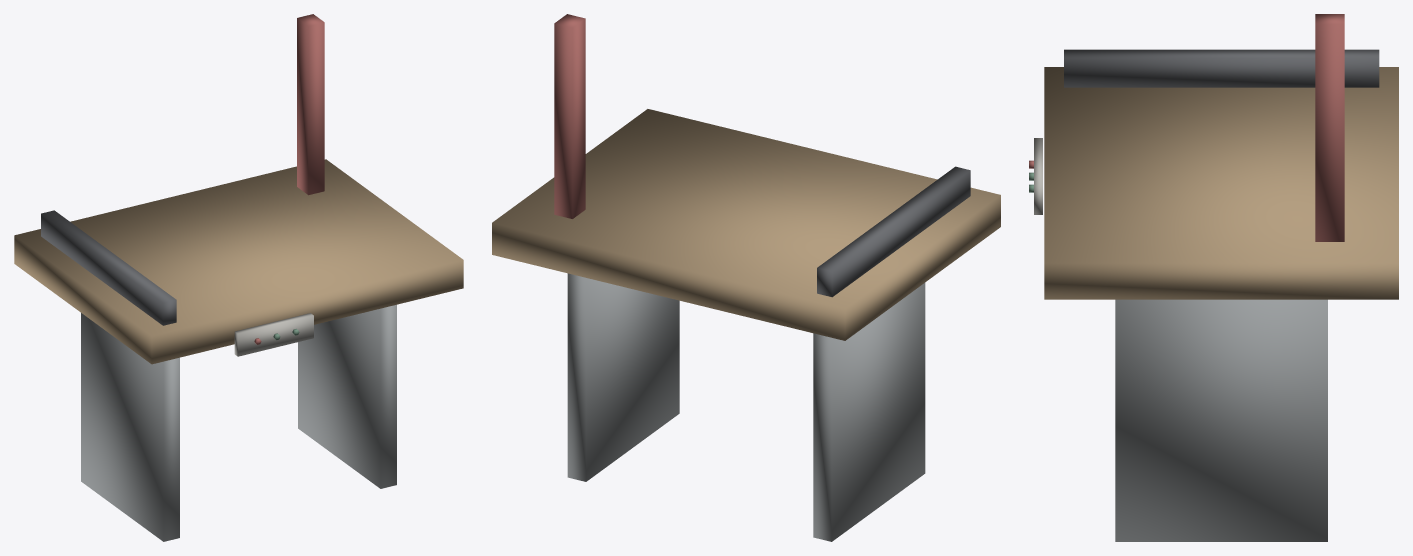
File: paper_cutter__deep.glb
The picture shows the model from 3 angles, left to right: view 1: azimuth 30°, elevation 25°; view 2: azimuth 150°, elevation 25°; view 3: azimuth 270°, elevation 25°; orthographic projection. The views are drawn at different scales.
Parts seen in each view (by area): view 1: world; view 2: world; view 3: world.
Part boxes in pixels (x1,y1,x2,y2): world: [14, 14, 463, 541]; world: [492, 14, 1000, 541]; world: [1029, 14, 1398, 541].
Bounding box in the file's own units: 1.15 × 1.42 × 0.9162.
